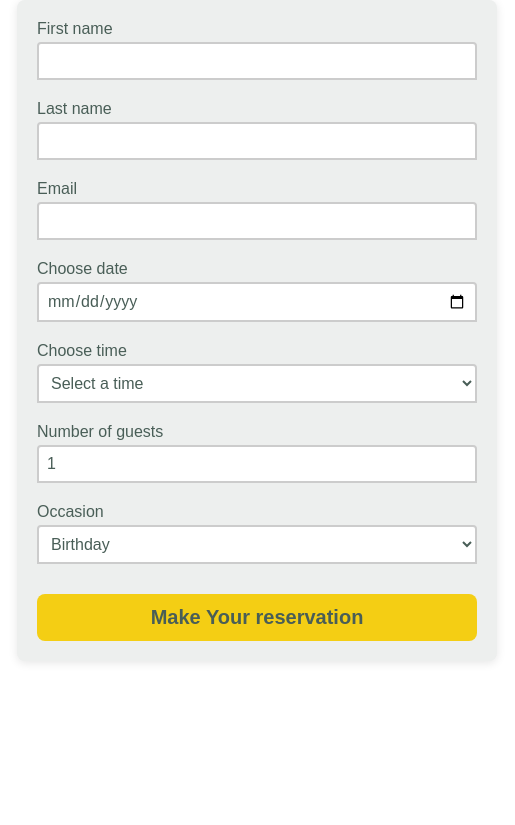
Test: JavaScript Validation Functions › Date Validation › shows error for past date
The width and height of the screenshot is (515, 825).
Type "2025-07-28" into the date field named "Choose reservation date" at (257, 302), box 37,282 -> 477,322
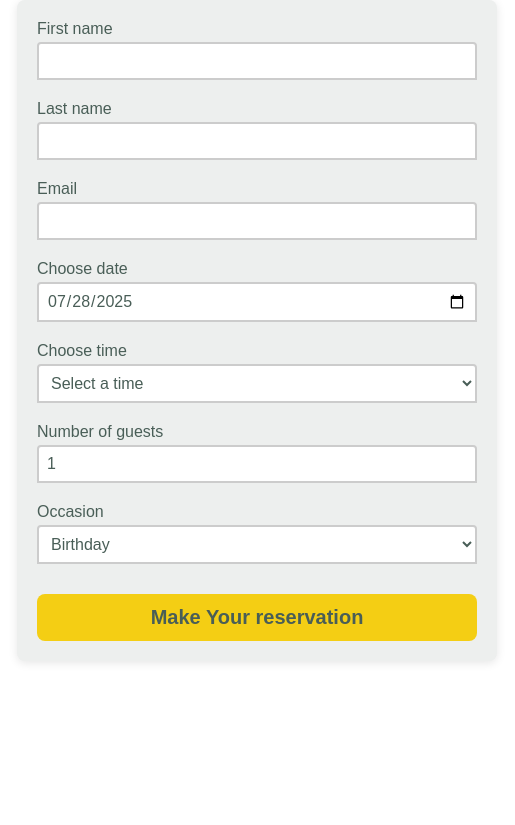
Leave the date field named "Choose reservation date", box 37,282 -> 477,322
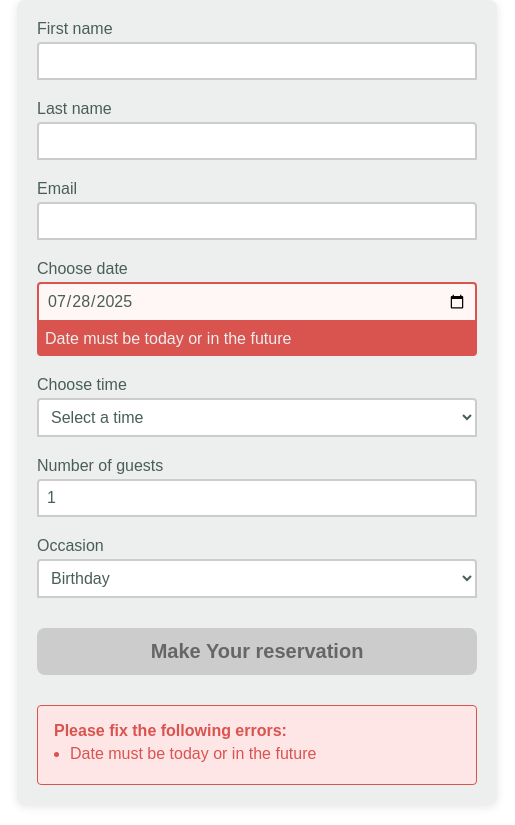
Now the text "Date must be today or in the future" is shown 2 times, box 37,322 -> 477,356; 70,745 -> 316,762
